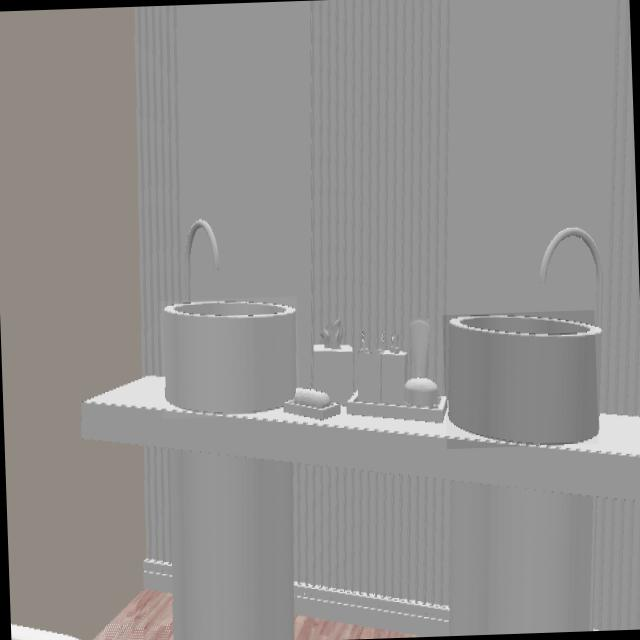washbasin: (445, 313, 598, 444), (160, 299, 298, 416)
